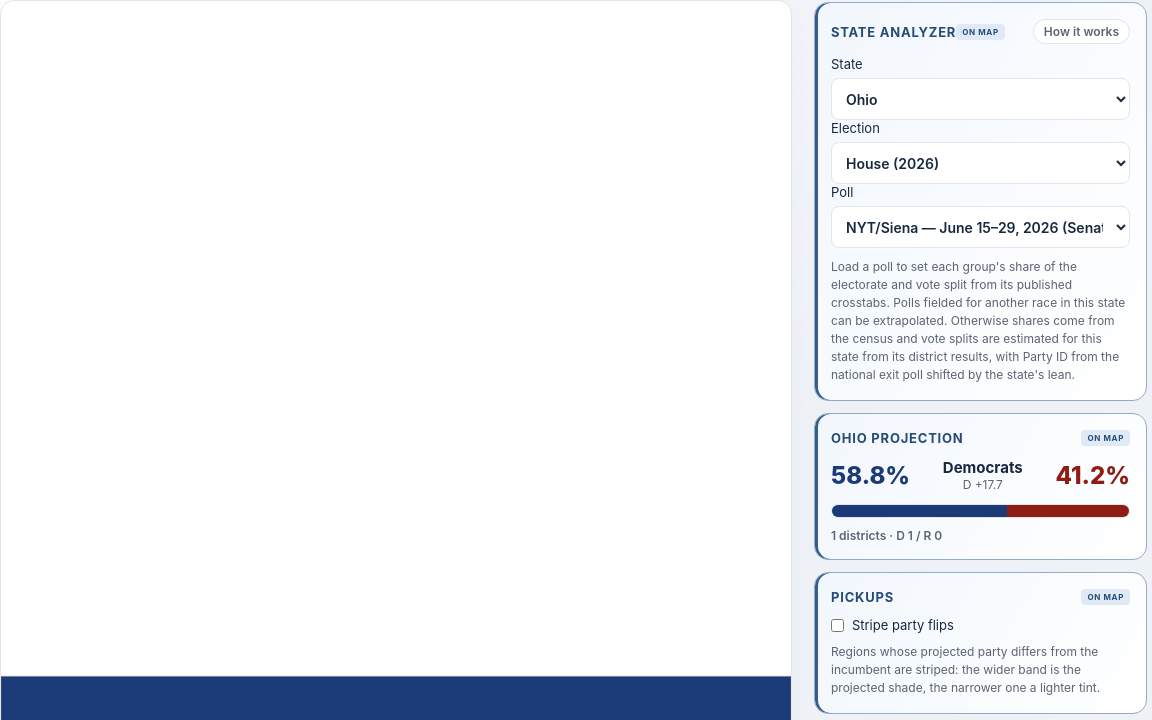
Test: StateAnalyzer › offers a senate poll to a house race and flags it as an extrapolation
This screenshot has width=1152, height=720.
Expected: the dropdown with id "analyzer-election" shows "House (2026)", x1=831 y1=142 x2=1130 y2=184
Select "NYT/Siena — June 15–29, 2026 (Senate)" in the dropdown with id "analyzer-poll" at (980, 227), box x1=831 y1=206 x2=1130 y2=248
(page scrolled)
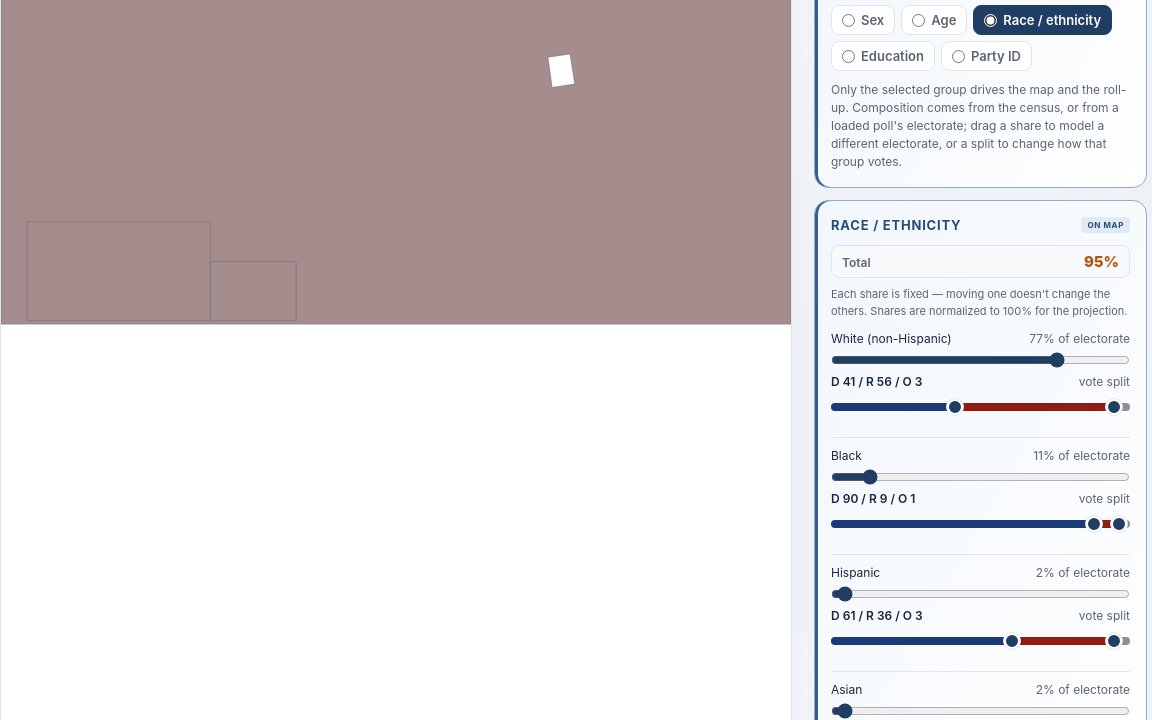
Result: the slider named "White (non-Hispanic) share of electorate" holds "77" at x1=831 y1=352 x2=1130 y2=368
